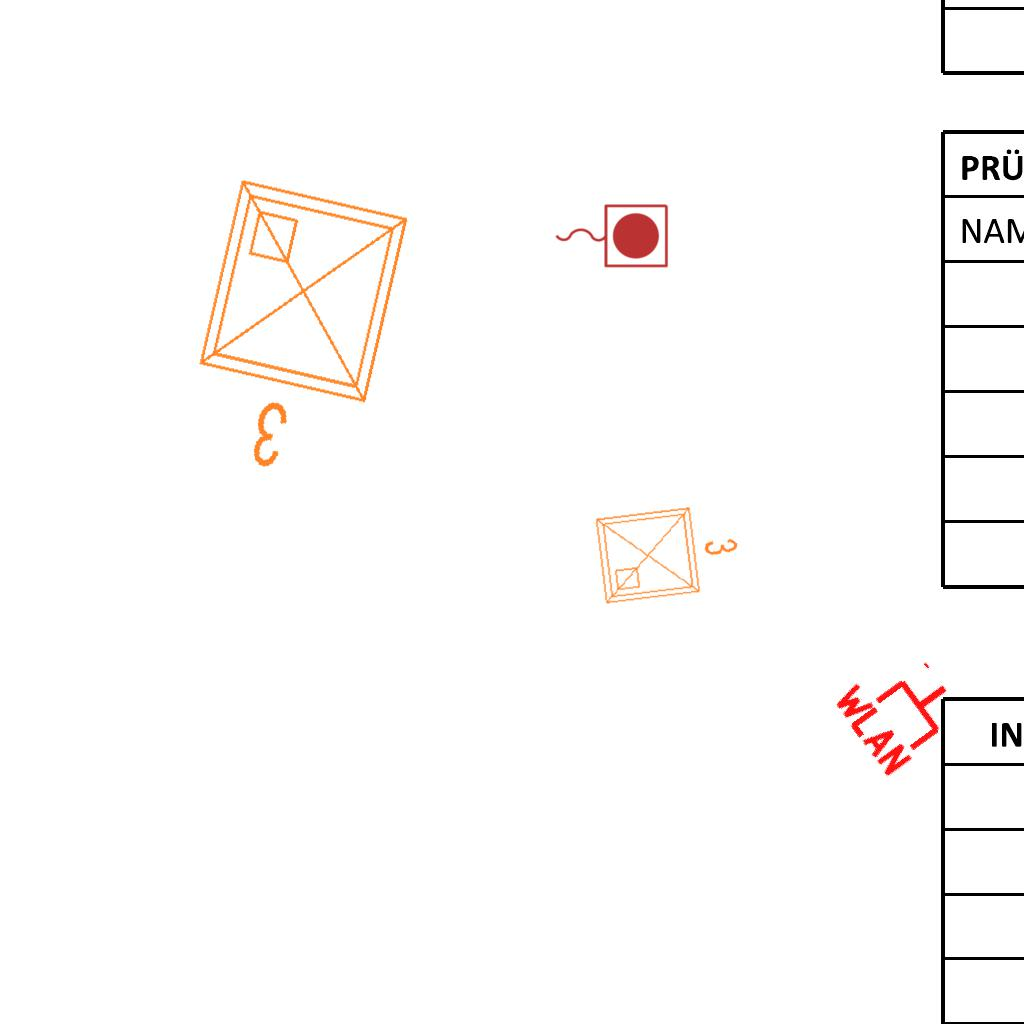Einbaudownlights_LED_Konferenzraeume: (162, 162, 434, 502), (587, 490, 749, 612)
WLAN: (827, 636, 974, 782)
Zugtaster: (550, 199, 672, 271)
